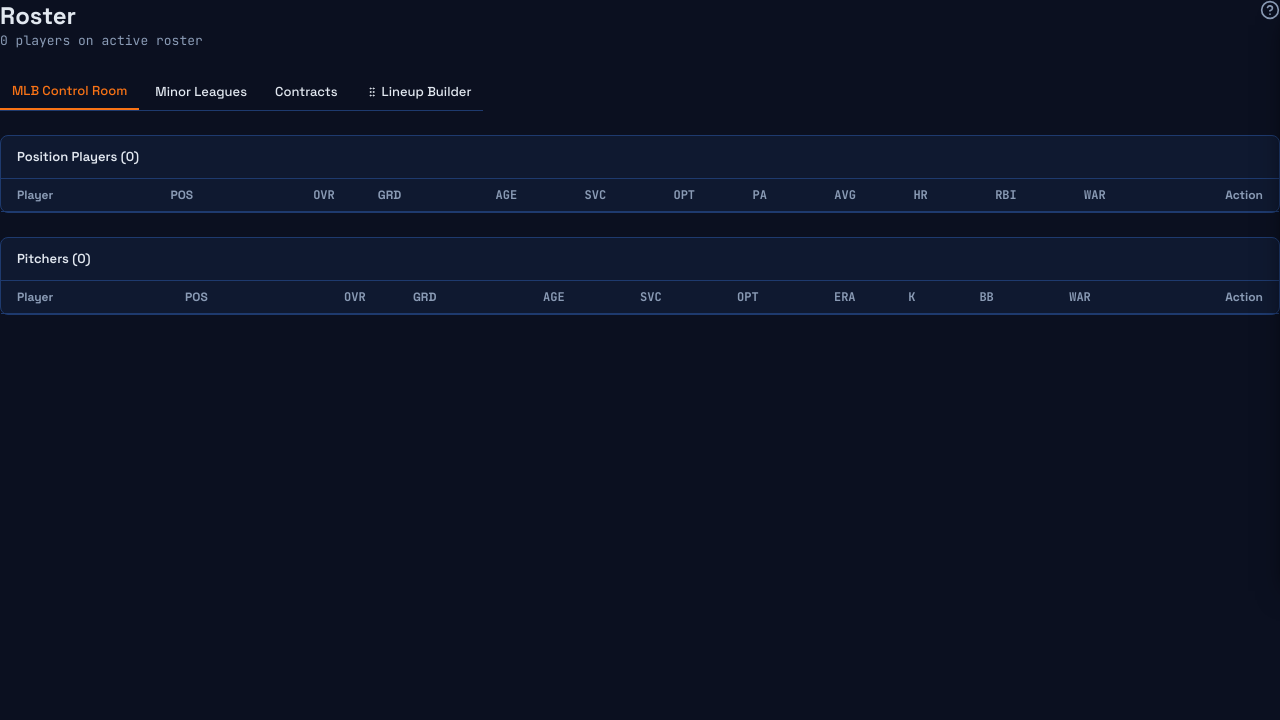
Scenario: RosterPage › opens the contracts tab and starts an extension negotiation flow
Click the tab "Contracts" at (306,92), box [263,75,350,109]
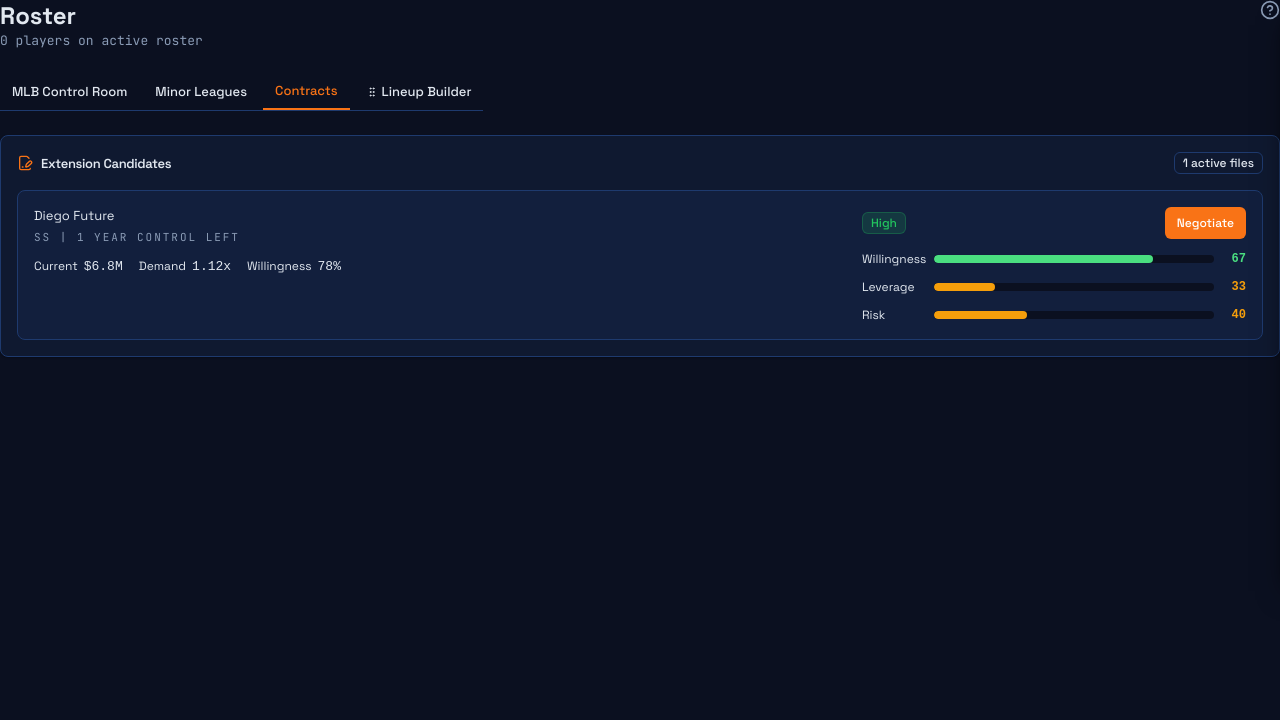
expect the text "Diego Future" is shown: met, box [34,207,114,224]
expect the text "Willingness" is shown: met, box [247,258,312,274]
Click the button "Negotiate" at (1205,223), box [1165,207,1246,239]
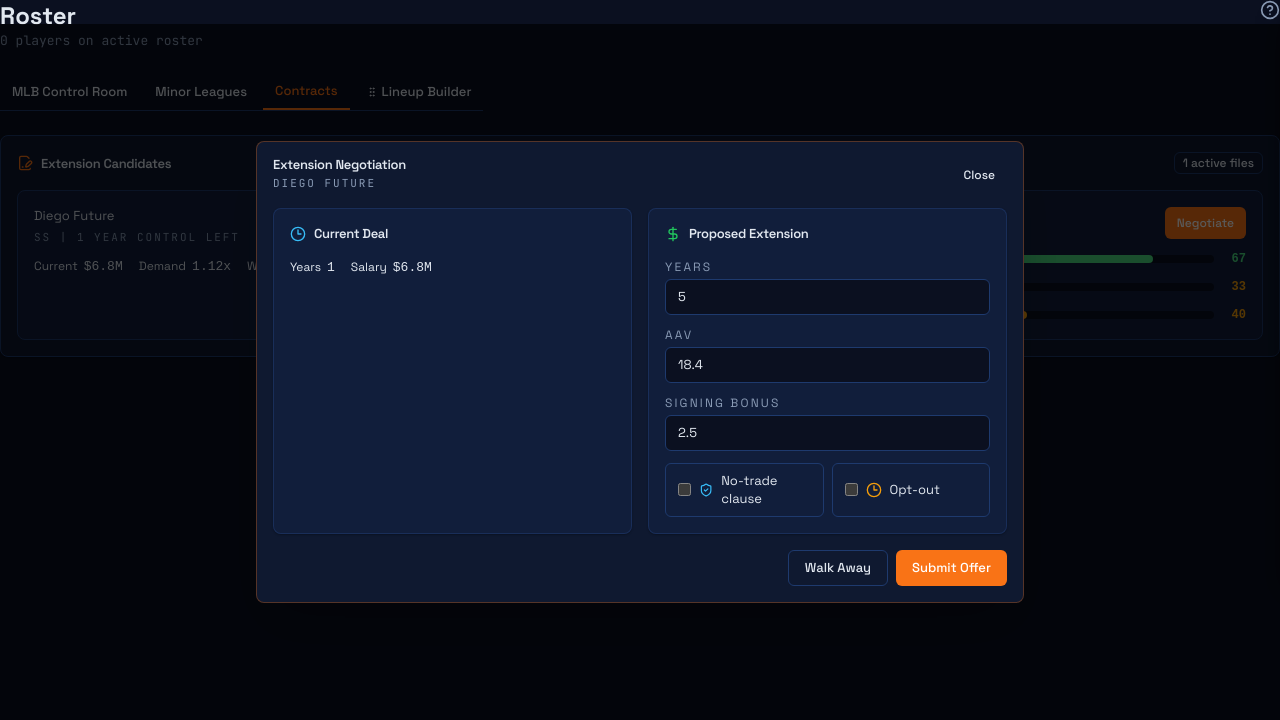
expect the text "Extension Negotiation" is shown: met, box [273,158,406,171]
Click the button "Submit Offer" at (952,568), box [896,550,1007,586]
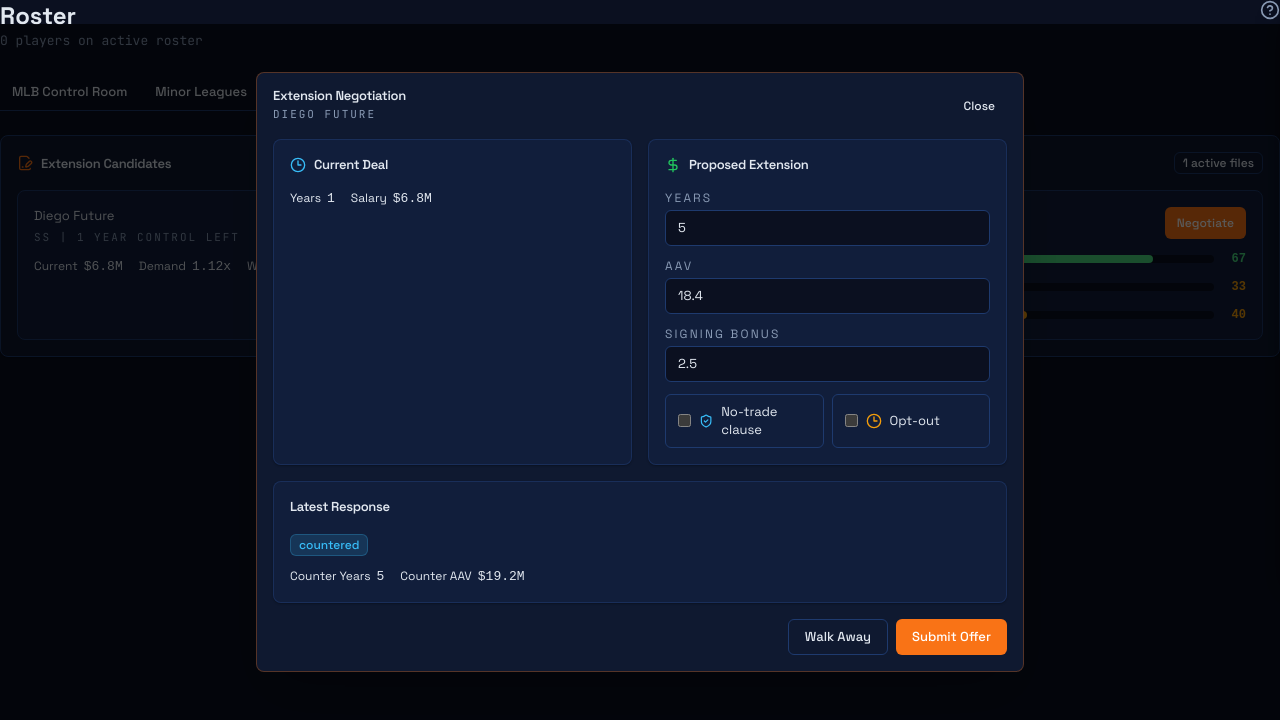
expect the text "countered" is shown: met, box [290,534,368,556]
